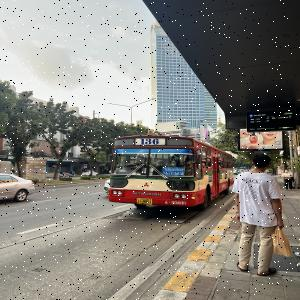BMTA-bus: (107, 133, 234, 210)
Bus Line Number: (136, 137, 164, 146)
Bus Side Number: (163, 199, 188, 206)
Destination Sign: (162, 168, 184, 176)
